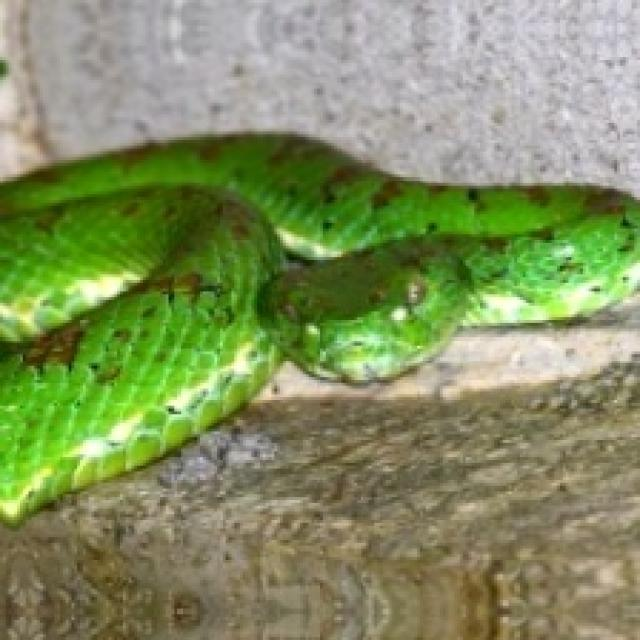philippine pitviper: (0, 134, 637, 520)
